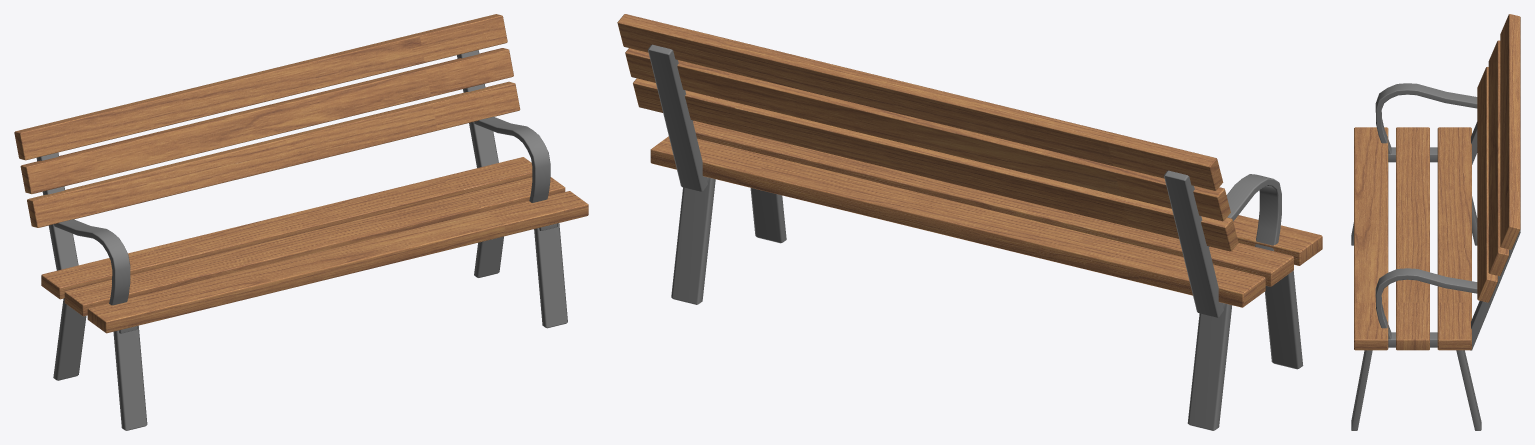
Rendered from SM_bench_01.fbx.
3 views of the same model, side by side, from view 1: azimuth 30°, elevation 25°; view 2: azimuth 150°, elevation 25°; view 3: azimuth 270°, elevation 25° (orthographic). The views are drawn at different scales.
Parts seen in each view (by area): view 1: bench02; view 2: bench02; view 3: bench02.
Part boxes in pixels (box(x1,y1,x2,y2)): bench02: box(14, 14, 588, 430); bench02: box(617, 14, 1322, 430); bench02: box(1351, 14, 1520, 430).
Size of the model in its own units: 81.83 by 38.58 by 27.55.
2 materials, 1 textured.
